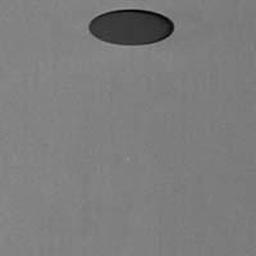Punching: (90, 9, 177, 47)
